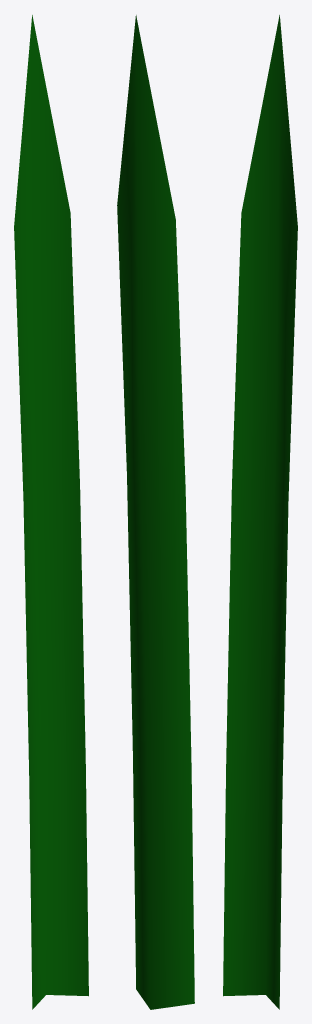
The model's file is grass.fbx.
3 views of the same model, side by side, from view 1: azimuth 30°, elevation 25°; view 2: azimuth 150°, elevation 25°; view 3: azimuth 330°, elevation 25° (orthographic). The views are drawn at different scales.
Parts seen in each view (by area): view 1: grass; view 2: grass; view 3: grass.
Part boxes in pixels (<box>): grass: <box>14,15,88,1009</box>; grass: <box>117,15,194,1009</box>; grass: <box>223,15,297,1009</box>.
Size of the model in its own units: 0.00322 by 0.0527 by 0.0028.
